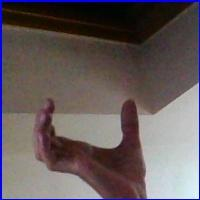space: (17, 66, 163, 190)
